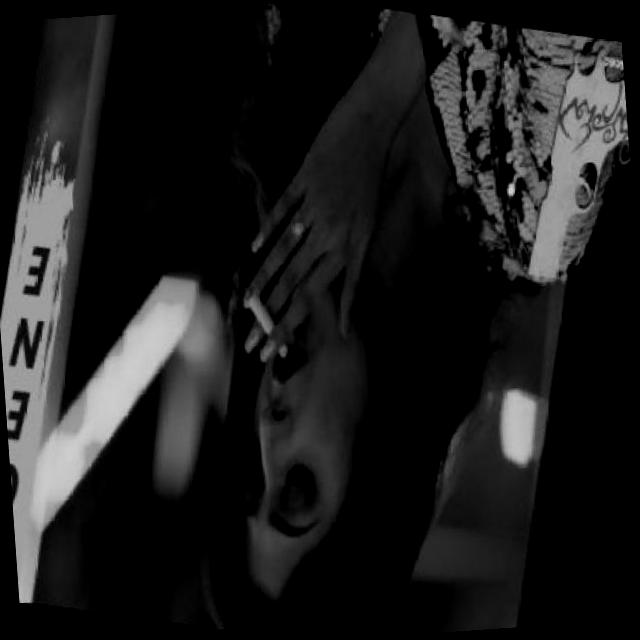cigarette: (229, 276, 302, 360)
